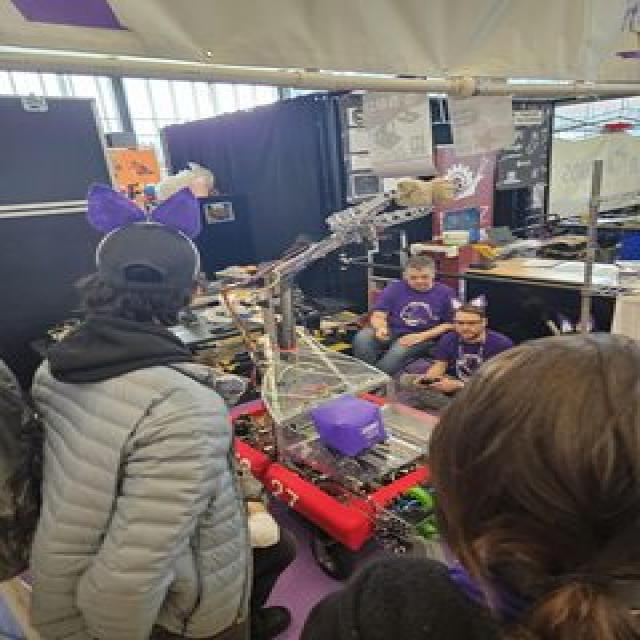robot: (139, 135, 542, 554)
